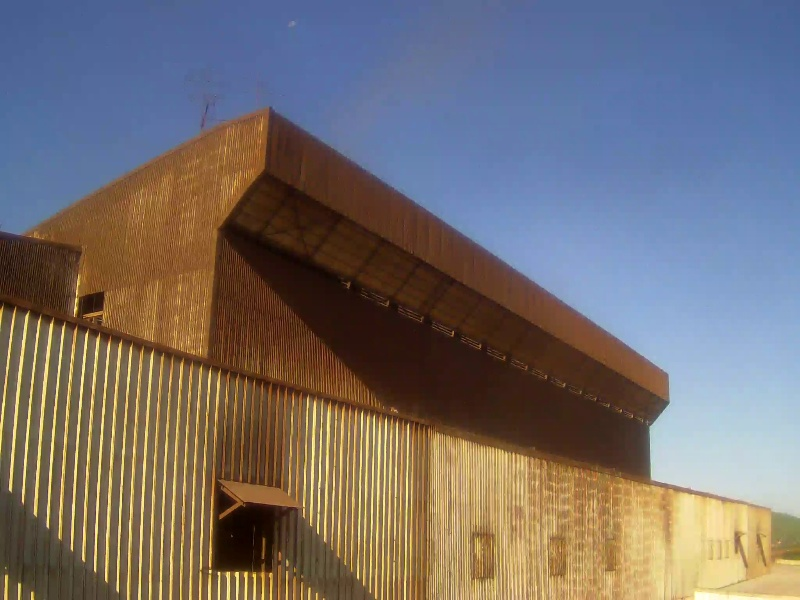bom: (272, 68, 675, 496), (6, 4, 265, 196), (618, 272, 780, 486)
